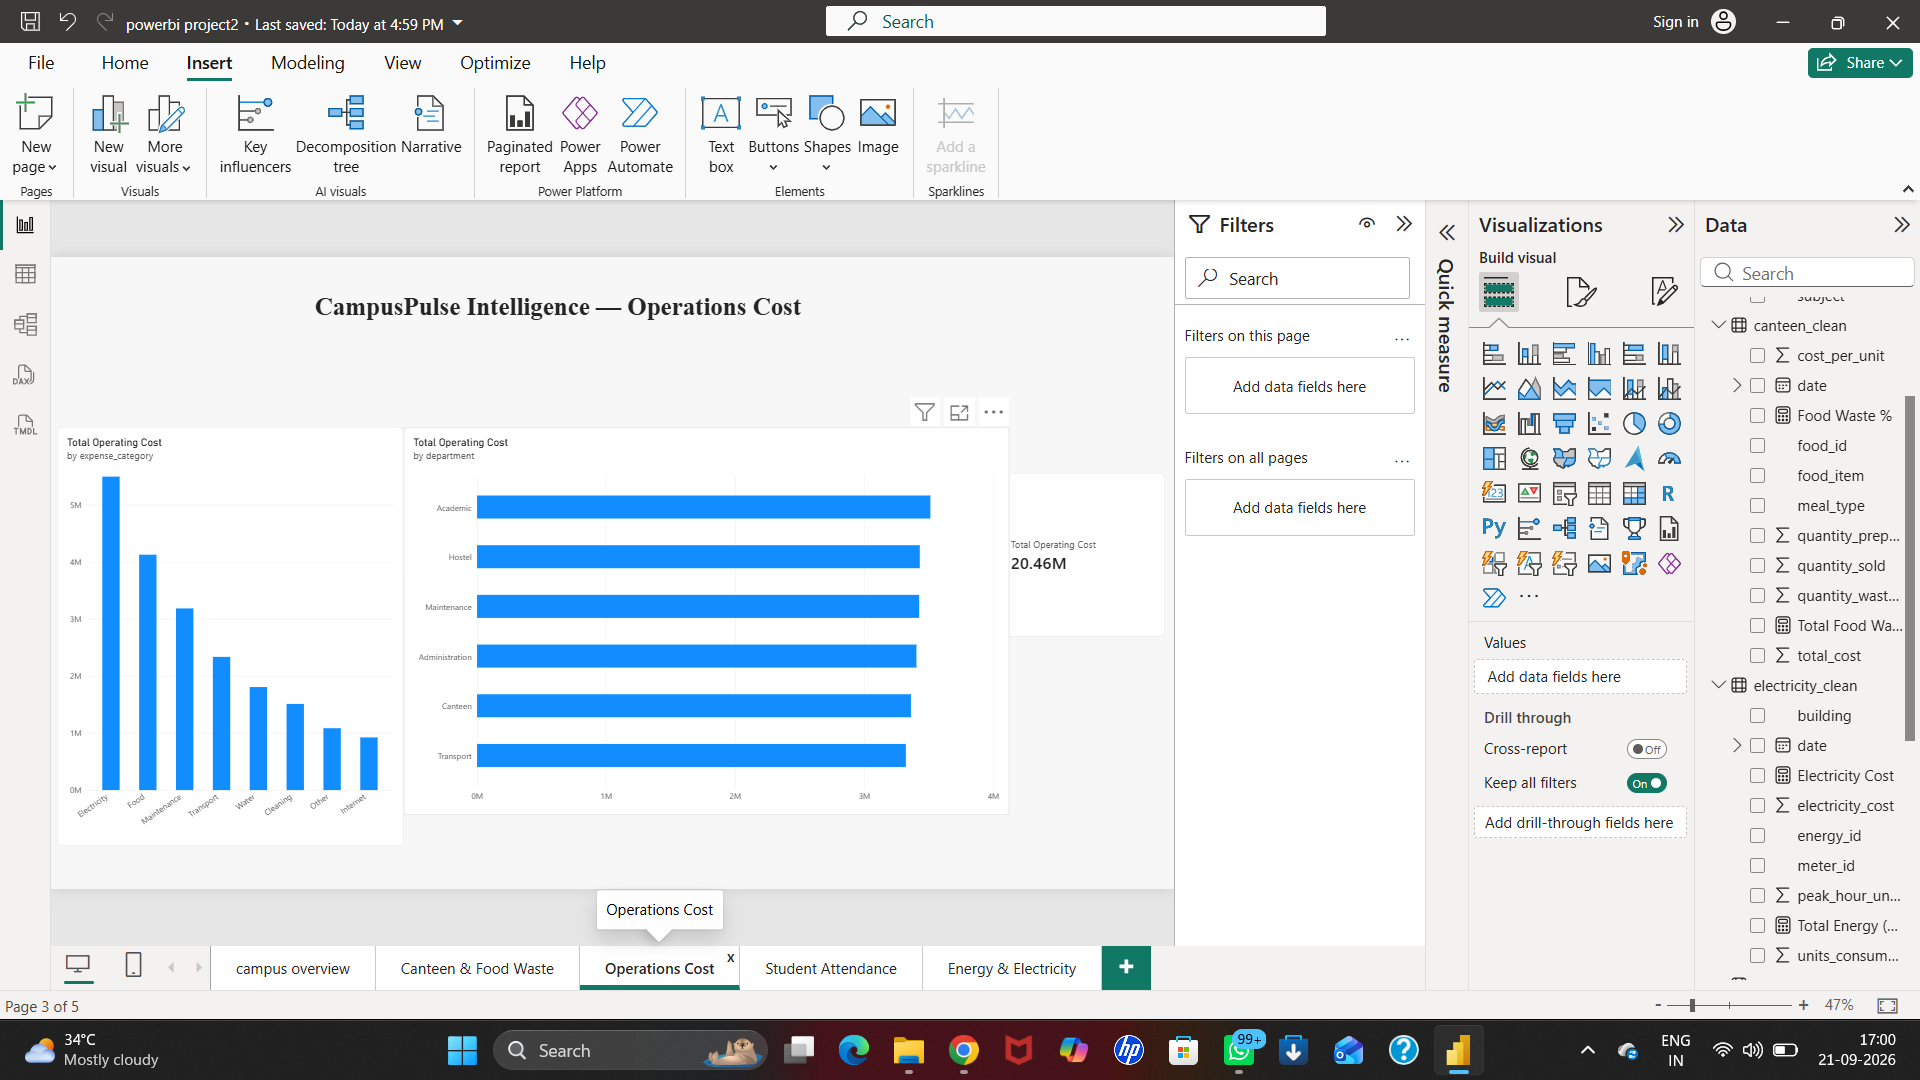

This screenshot's page, from the dashboard's own definition file:
{"tool":"powerbi","page":{"name":"Operations Cost","canvas":[1920,1080],"ordinal":2},"visuals":[{"type":"cardVisual","fields":{"Data":["operating_costs_clean.Total Operating Cost"]},"box":[1624.9,369.9,280,280],"z":0},{"type":"clusteredColumnChart","fields":{"Category":["operating_costs_clean.expense_category"],"Y":["operating_costs_clean.Total Operating Cost"]},"box":[10.7,290.8,592.2,716.3],"z":1},{"type":"barChart","fields":{"Y":["operating_costs_clean.Total Operating Cost"],"Category":["operating_costs_clean.department"]},"box":[602.9,290.8,1037,662.8],"z":2},{"type":"textbox","box":[451.1,59.9,1453.9,70.6],"z":3}]}

Visuals, with their boxes on the page's 1920x1080 design canvas (x1, y1, x2, y2). These are canvas units, not pixel positions in the 1920x1080 screenshot, which may show the page scaled, cropped or inside an application window:
cardVisual - operating_costs_clean.Total Operating Cost: select_region(1625, 370, 1905, 650)
clusteredColumnChart - operating_costs_clean.expense_category x operating_costs_clean.Total Operating Cost: select_region(11, 291, 603, 1007)
barChart - operating_costs_clean.Total Operating Cost x operating_costs_clean.department: select_region(603, 291, 1640, 954)
textbox: select_region(451, 60, 1905, 130)
